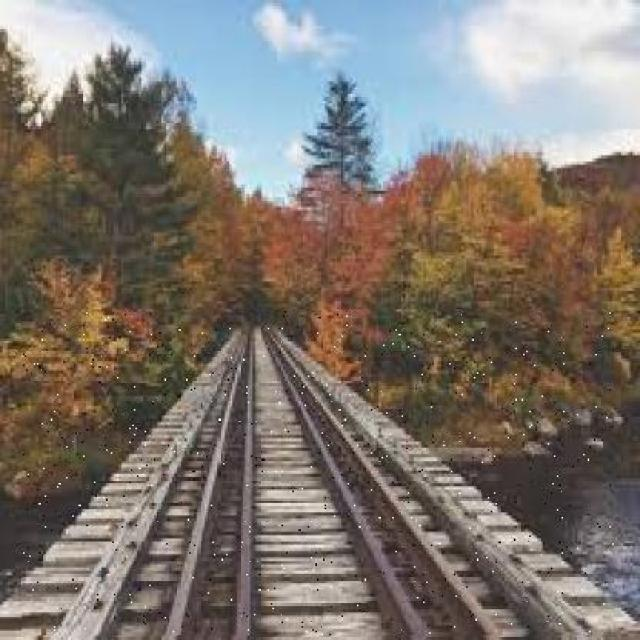rail: (161, 320, 463, 635)
